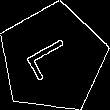L_NE: (24, 33, 82, 84)
